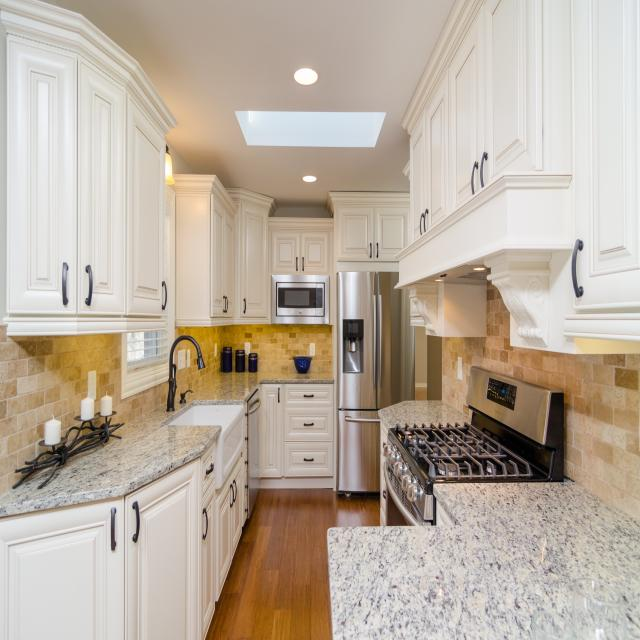Appliance_Fridge: (337, 272, 413, 494)
Appliance_Microwave: (272, 271, 331, 328)
Appliance_Oven: (382, 368, 564, 526)
Appliance_Sink: (167, 336, 206, 412), (162, 400, 245, 430), (180, 390, 193, 405)
Cabinet_Raised_Panel: (0, 0, 640, 355), (1, 382, 337, 640)
Countertop_Granite: (327, 482, 640, 640), (0, 412, 221, 516), (187, 372, 333, 402), (378, 400, 469, 431)
